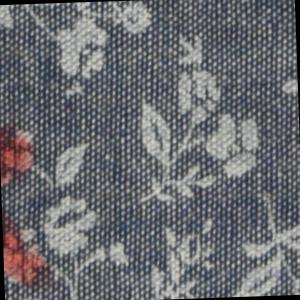Stain: (1, 118, 62, 299)
